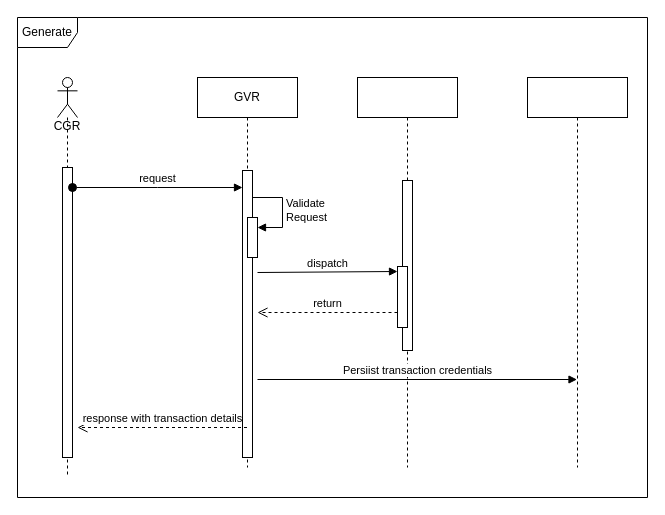
Image size: 665x515. Some labels were removed from this diagram. The box of each missing label's shape, as (x1, y1, x2, y2) in pixels:
Database: (526, 76, 628, 468)
HSM: Generate: (356, 76, 458, 468)
